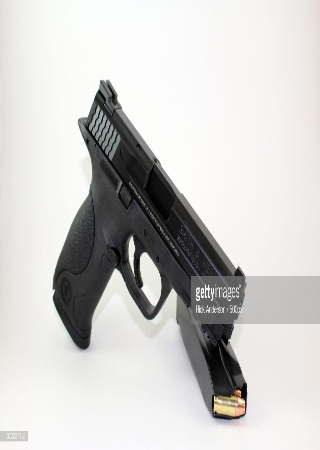handgun: (49, 77, 246, 349)
